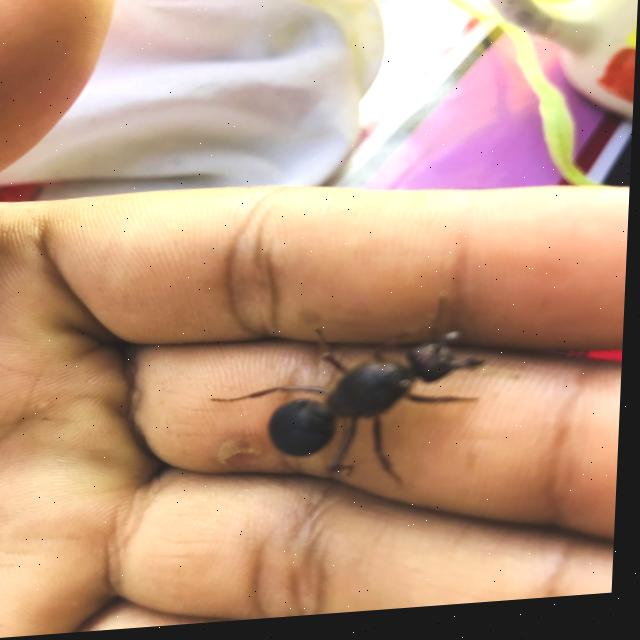Alive-Female-Dealate: (203, 307, 505, 497)
